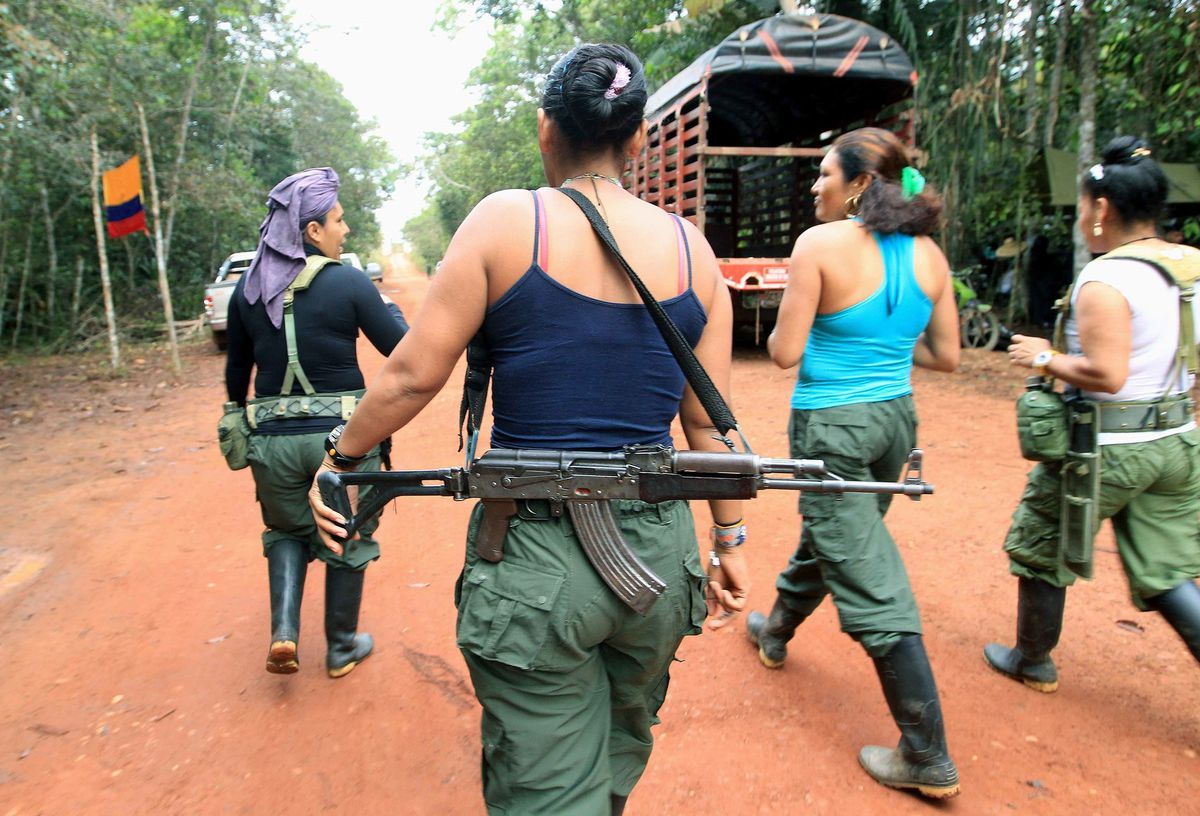Arma Real: (293, 432, 952, 608)
